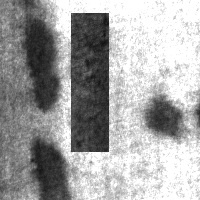crazing: (71, 13, 109, 152)
patches: (22, 14, 60, 110), (30, 136, 70, 200), (69, 26, 109, 84), (138, 92, 186, 136)
